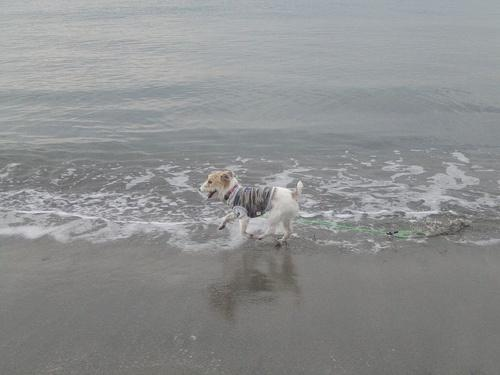dog: (205, 170, 309, 245)
